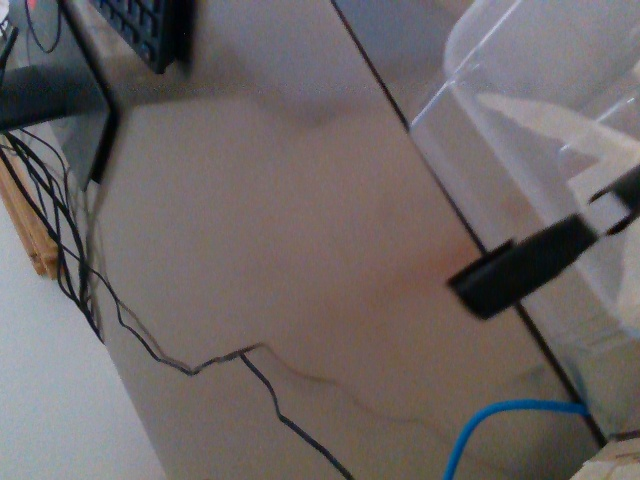test_strip: (443, 192, 631, 322)
